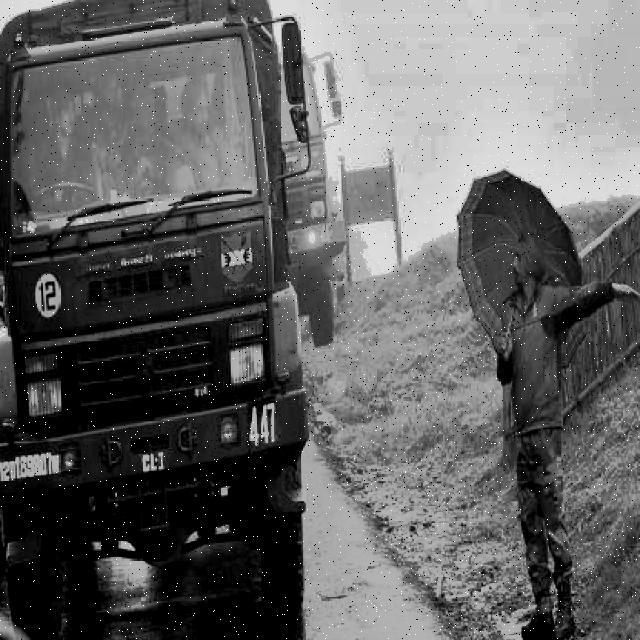HCV: (17, 9, 326, 638)
